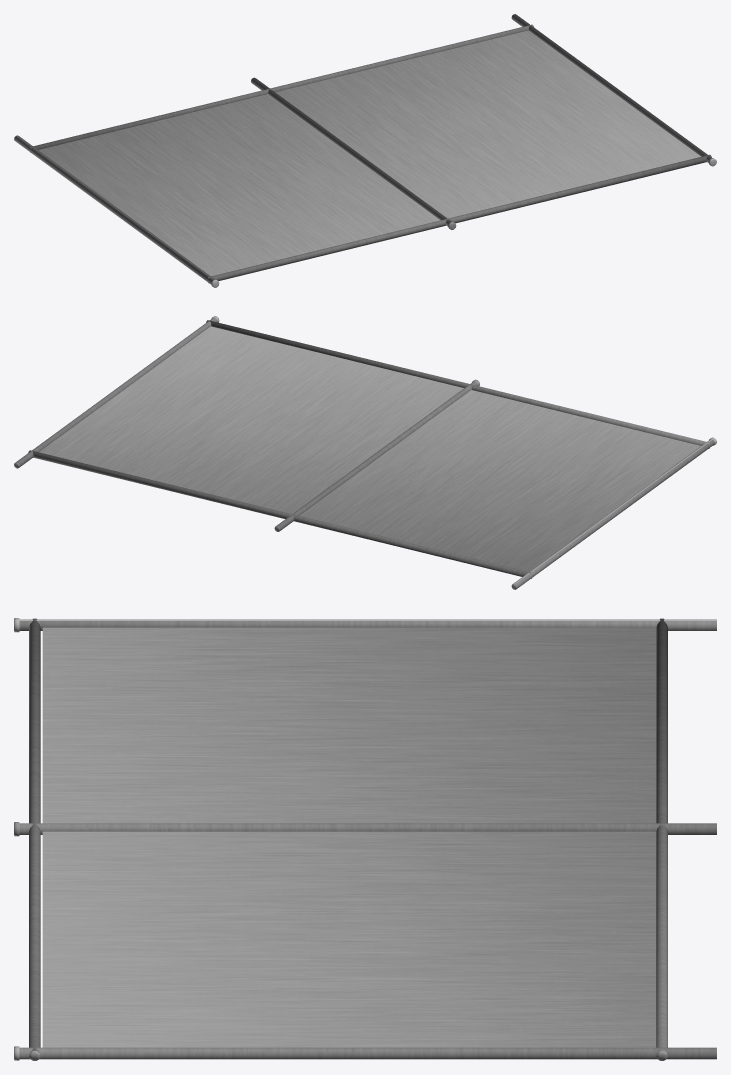
The model's file is blender.obj.
3 renders of one model, top to bottom at view 1: azimuth 30°, elevation 25°; view 2: azimuth 150°, elevation 25°; view 3: azimuth 270°, elevation 25°, orthographic. The views are drawn at different scales.
Visible parts, largest first — view 1: mesh, bars; view 2: mesh, bars; view 3: mesh, bars.
Part boxes in pixels (x1,y1,x2,y2): mesh: [38, 30, 700, 276]; bars: [14, 14, 716, 287]; mesh: [39, 326, 700, 571]; bars: [14, 316, 716, 589]; mesh: [42, 627, 656, 1047]; bars: [14, 618, 716, 1060].
Bounding box in the file's own units: 25.08 × 0.3318 × 17.15.
